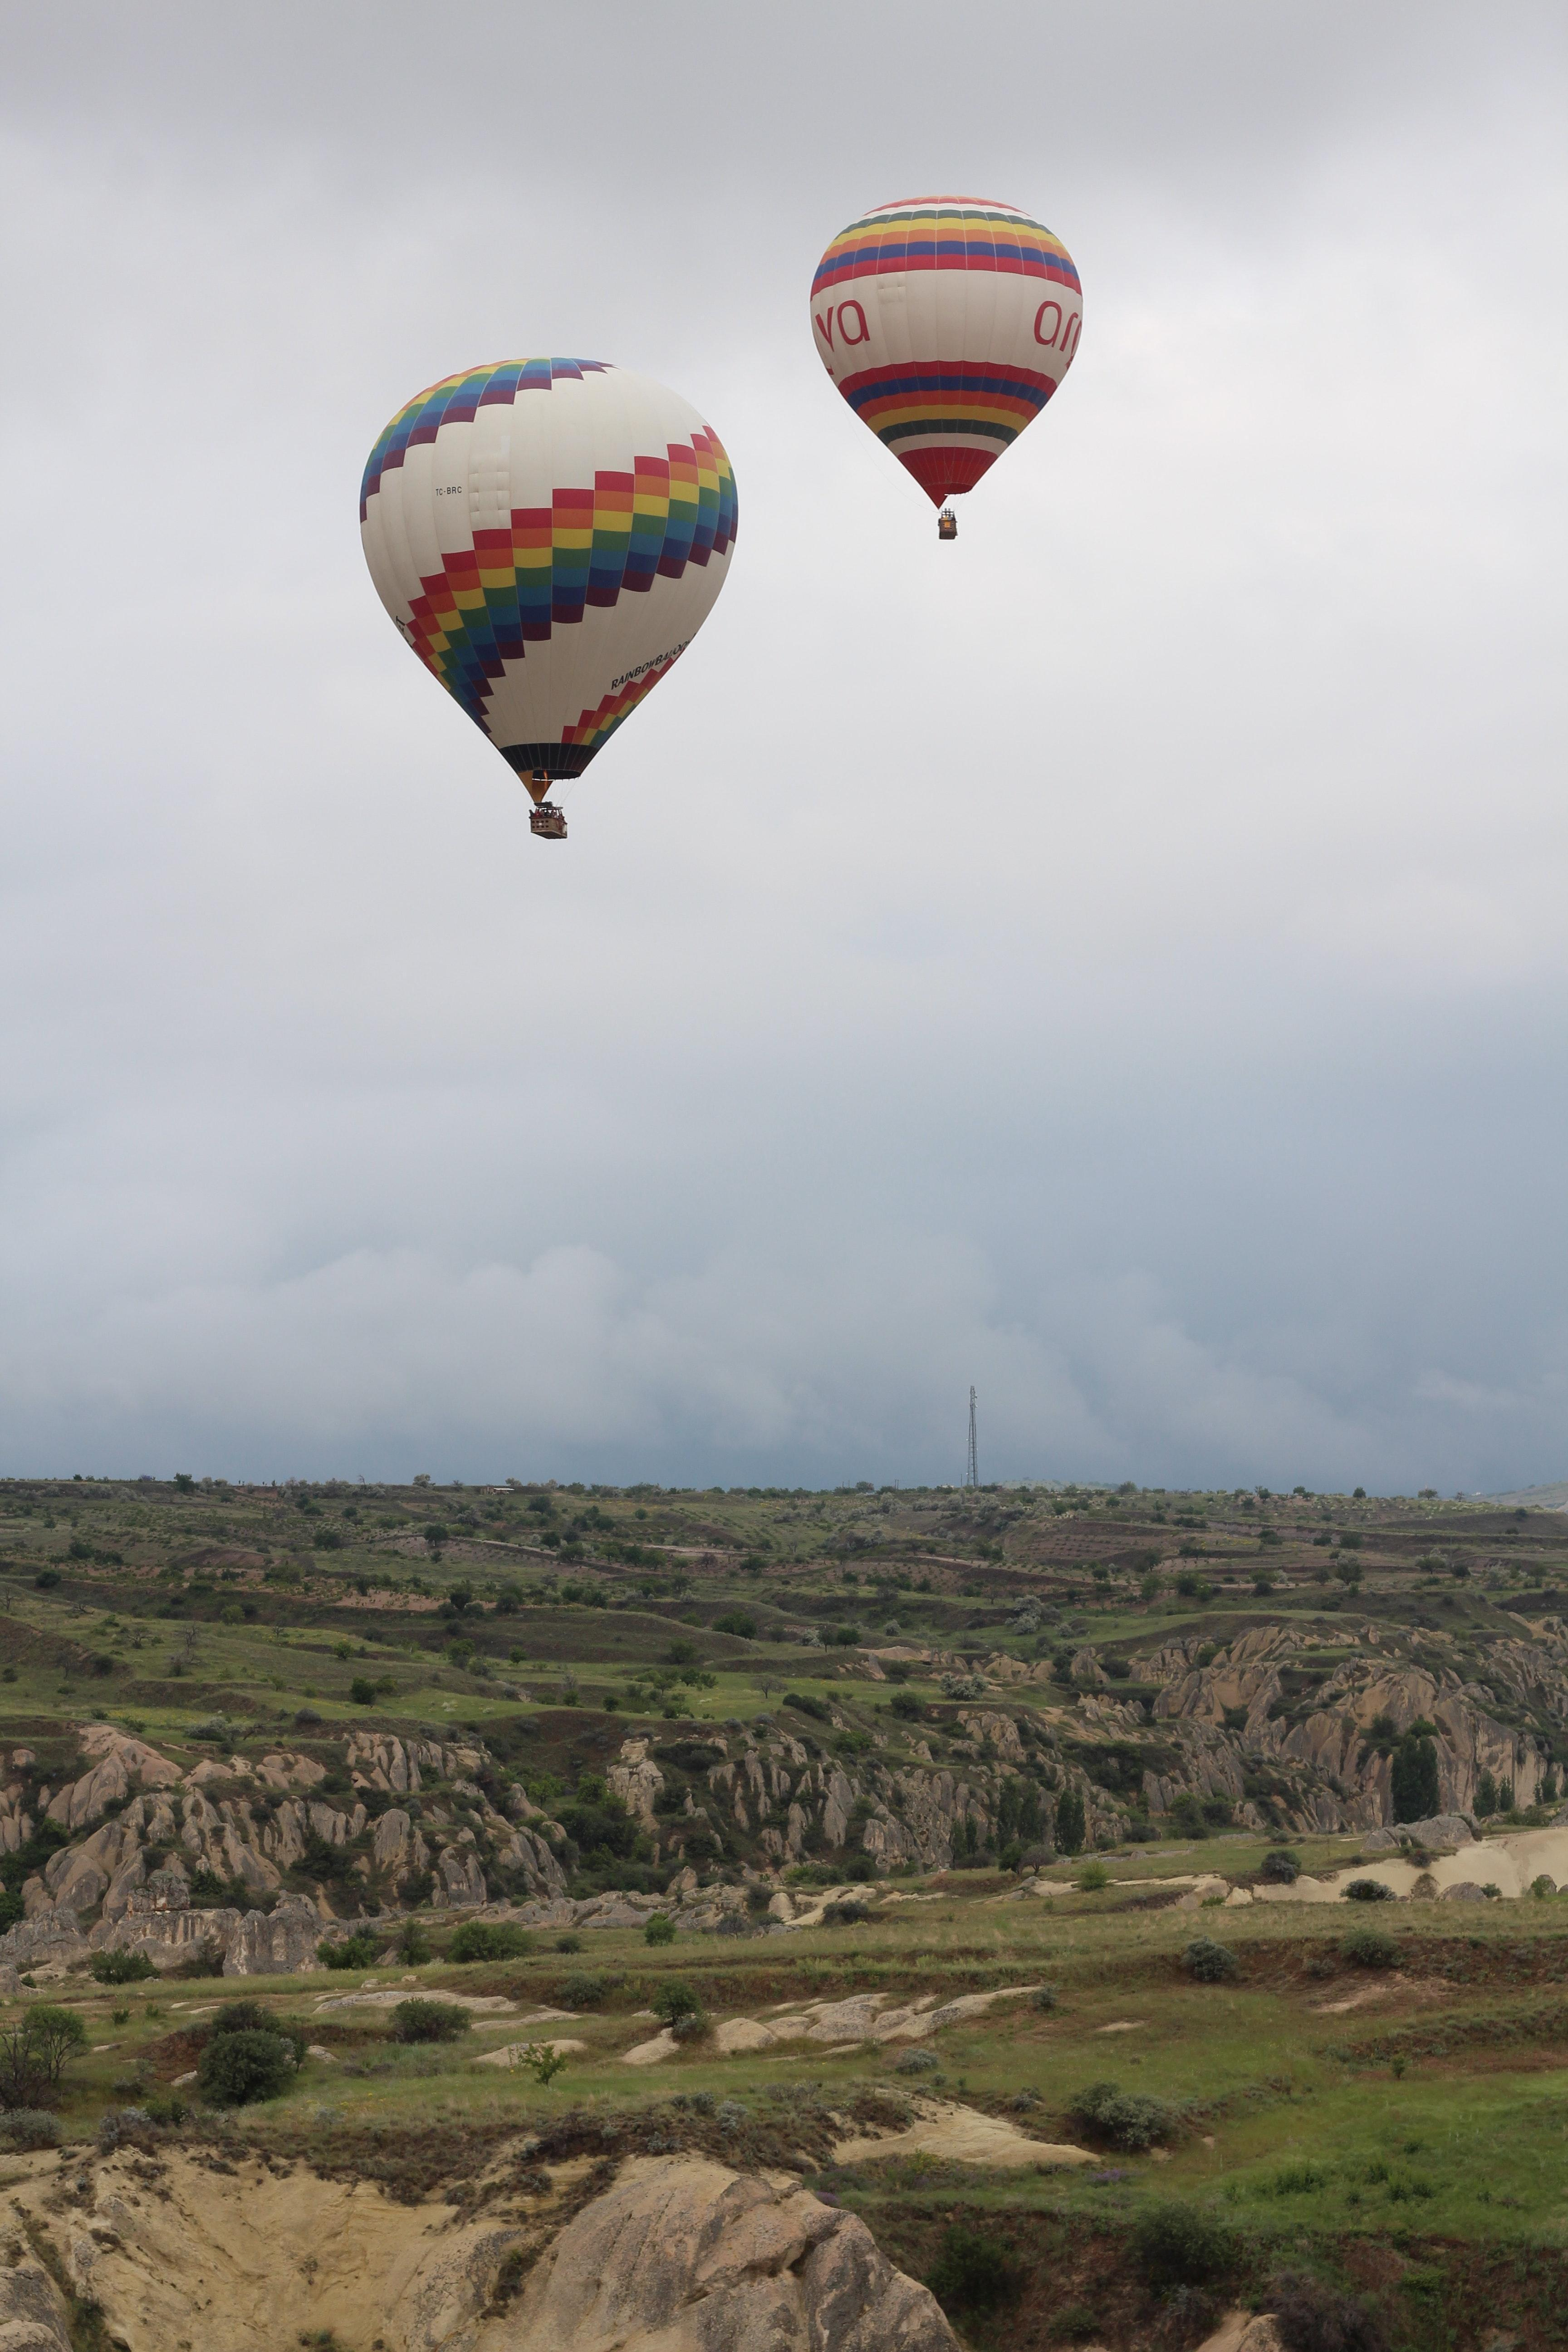hot air ballon: (341, 341, 749, 840), (805, 182, 1097, 549)
